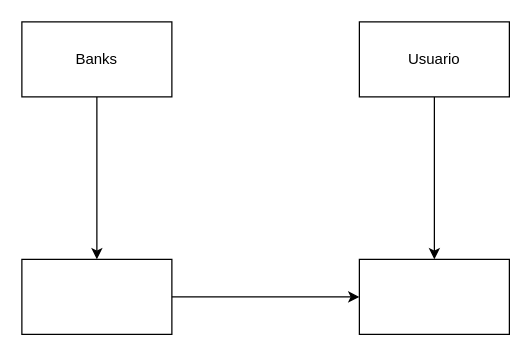
The diagram is 531 pixels wide and 356 high, and some of its shapes have lost their labels. The centre of each missing label's shape, as x and y in pixels:
Accounts: point (96, 296)
Trasancciones: point (433, 296)
